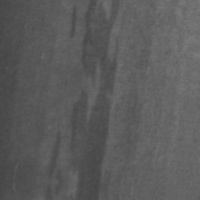inclusion: (60, 0, 131, 187), (42, 117, 73, 183), (59, 0, 86, 47)
